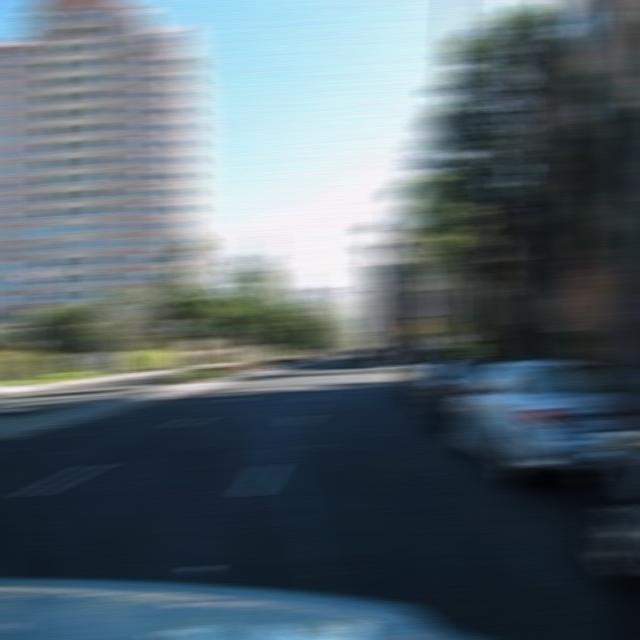speedLimit35: (172, 317, 198, 336)
